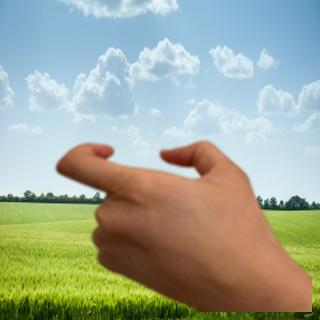HATE: (53, 134, 291, 308)
